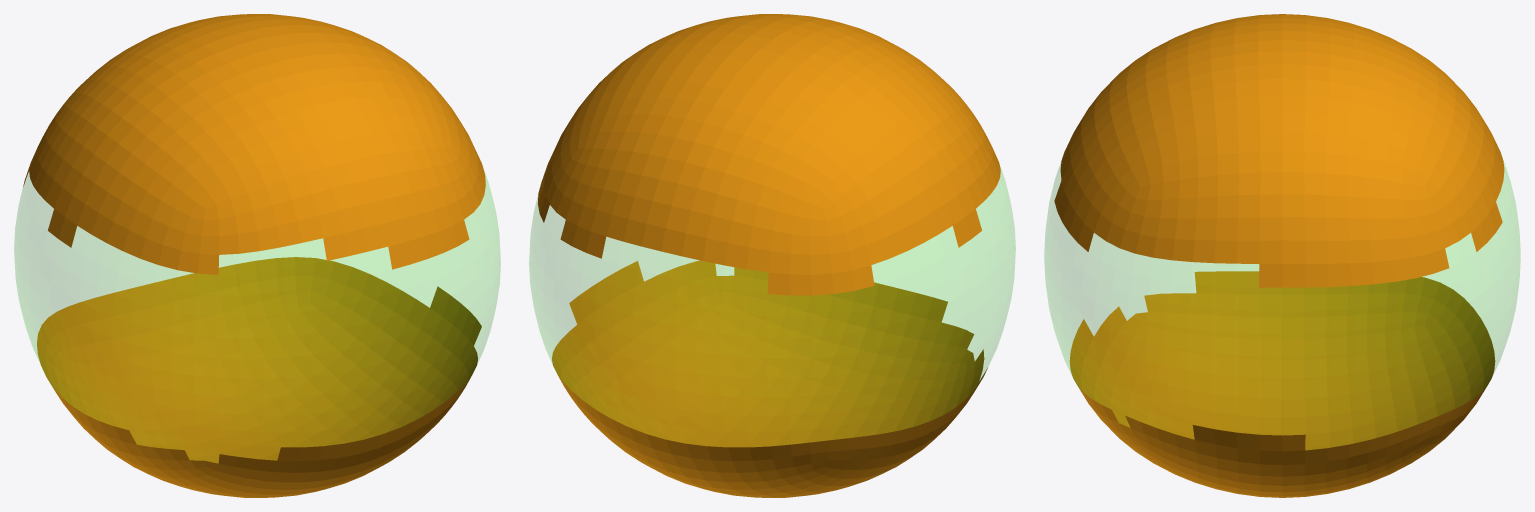
The model's file is eggSemi.glb.
The picture shows the model from 3 angles, left to right: view 1: azimuth 30°, elevation 25°; view 2: azimuth 150°, elevation 25°; view 3: azimuth 270°, elevation 25°; orthographic projection.
Visible parts, largest first — view 1: Cube; view 2: Cube; view 3: Cube.
Part boxes in pixels (bbox=[...]): Cube: bbox=[14, 14, 500, 497]; Cube: bbox=[529, 14, 1015, 497]; Cube: bbox=[1044, 14, 1520, 497].
Size of the model in its own units: 1.68 by 1.68 by 1.68.
